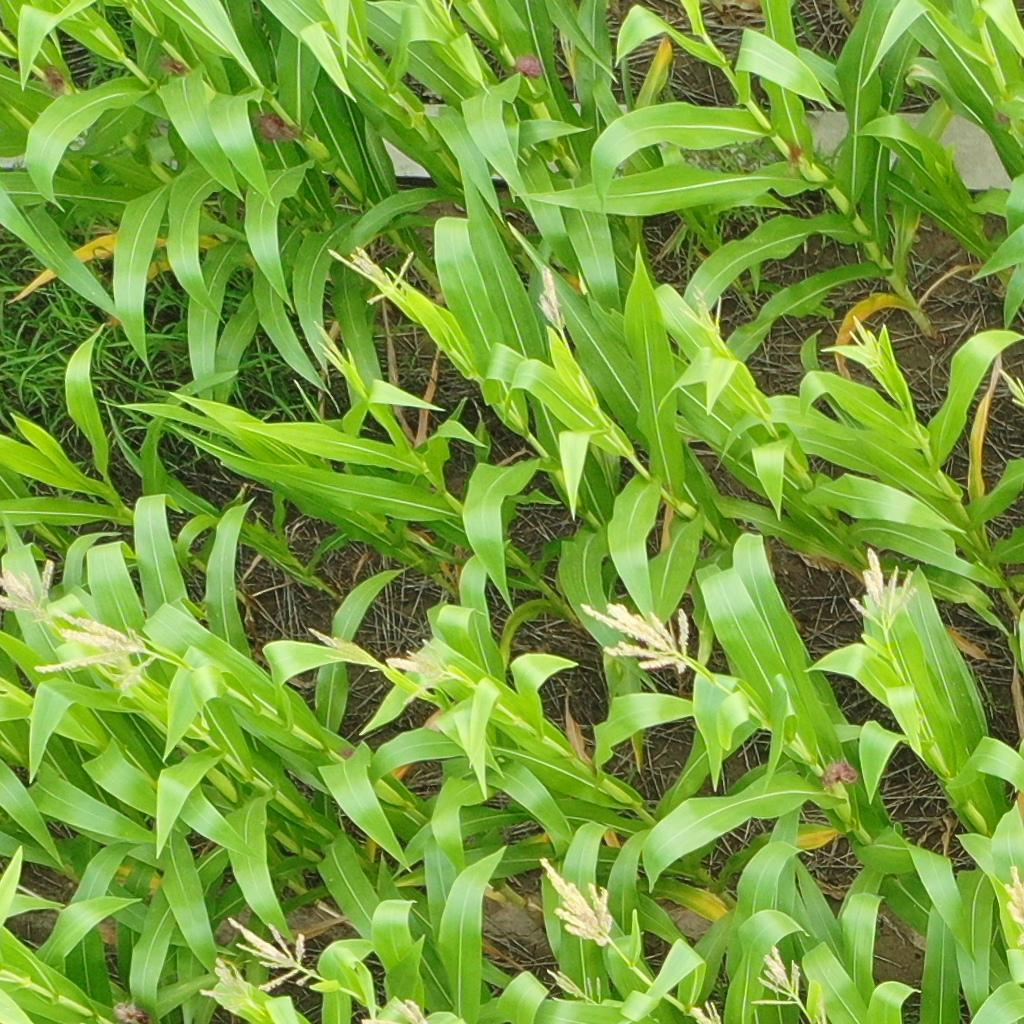Tassel: (36, 605, 160, 692), (578, 598, 698, 680), (538, 857, 615, 950), (226, 917, 316, 993), (850, 547, 919, 634), (326, 243, 414, 306), (384, 637, 458, 710), (200, 958, 266, 1018), (1, 560, 56, 622), (751, 949, 801, 1006), (308, 628, 374, 669), (529, 267, 569, 331), (313, 318, 357, 376), (678, 283, 724, 334), (546, 967, 604, 1006), (845, 315, 884, 372), (1001, 866, 1024, 950), (360, 997, 429, 1024), (998, 368, 1024, 406), (688, 999, 725, 1024)
